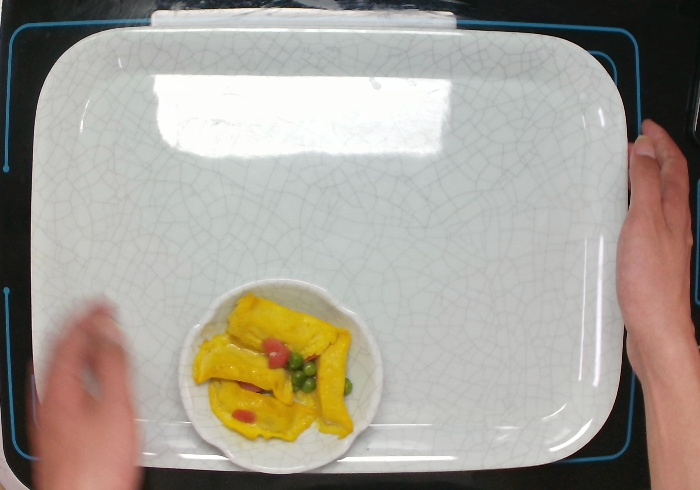JYsf-Ao_Yuan_Wan: (176, 276, 385, 475)
